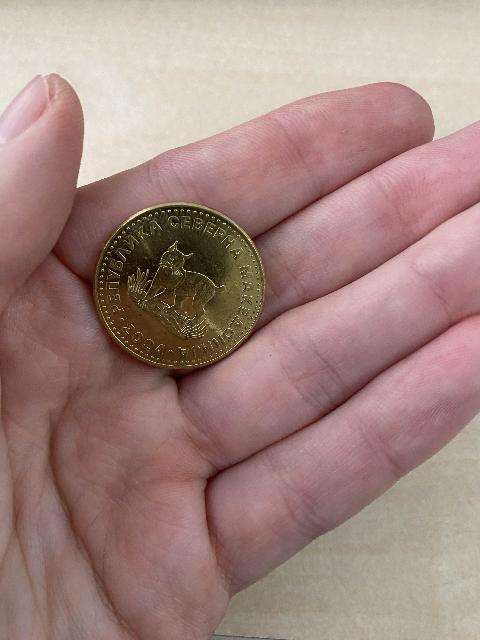5_coin: (94, 203, 264, 368)
